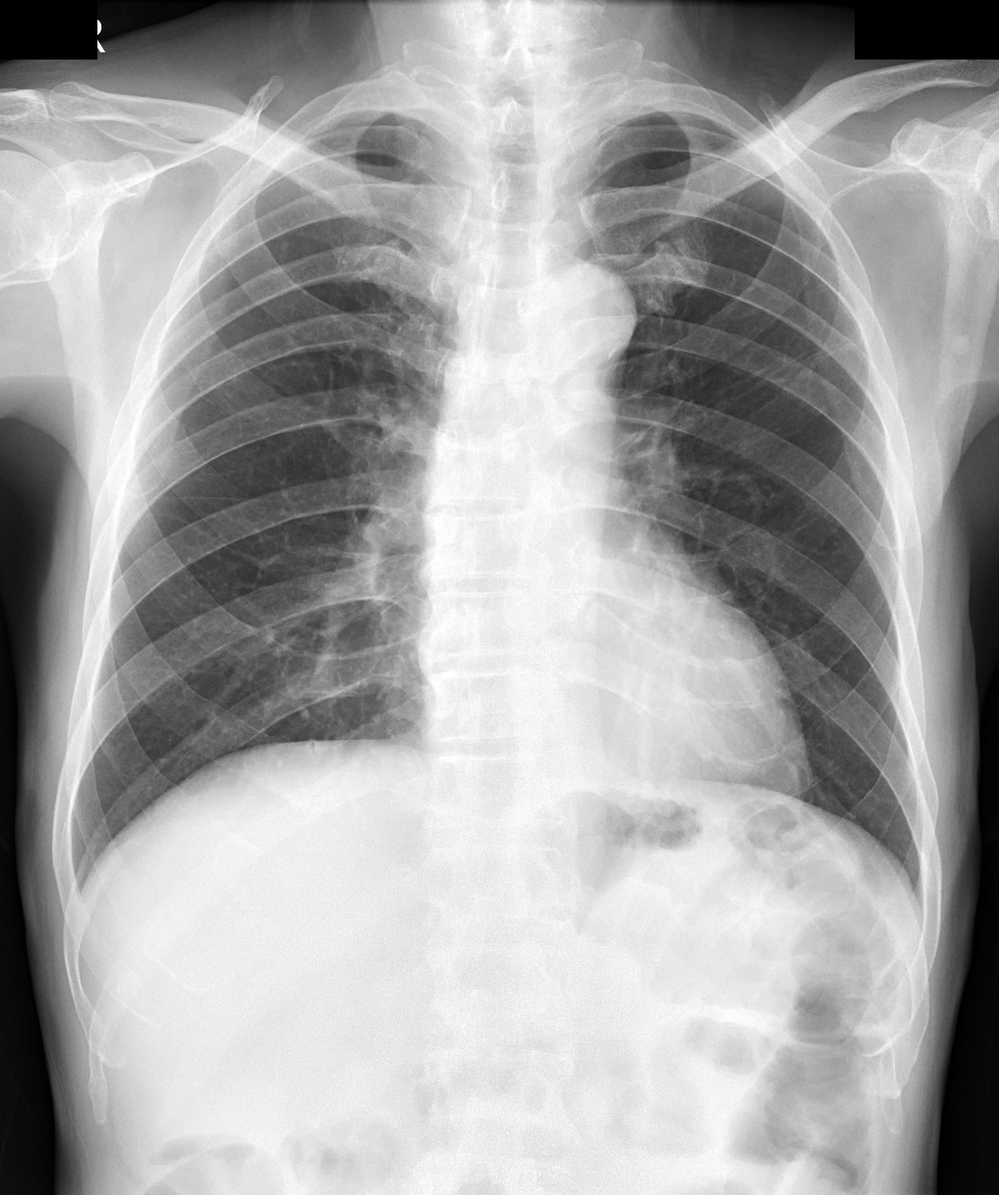Pulmonary fibrosis: (742, 334, 868, 387)
